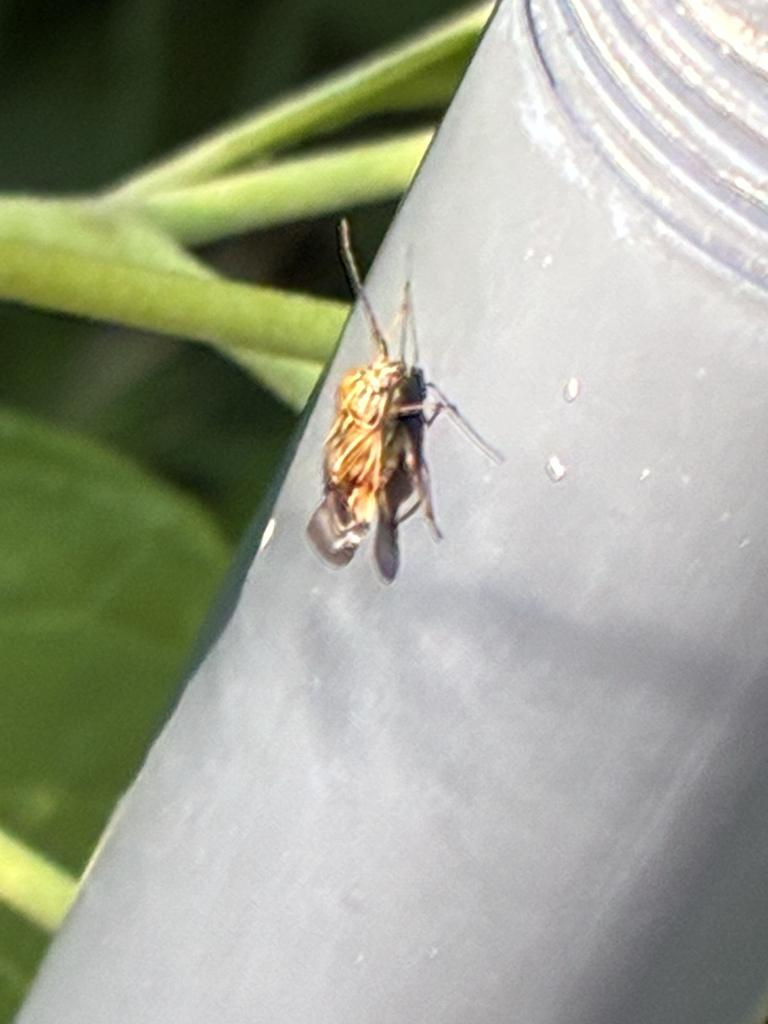plant_bugs: (241, 198, 530, 619)
